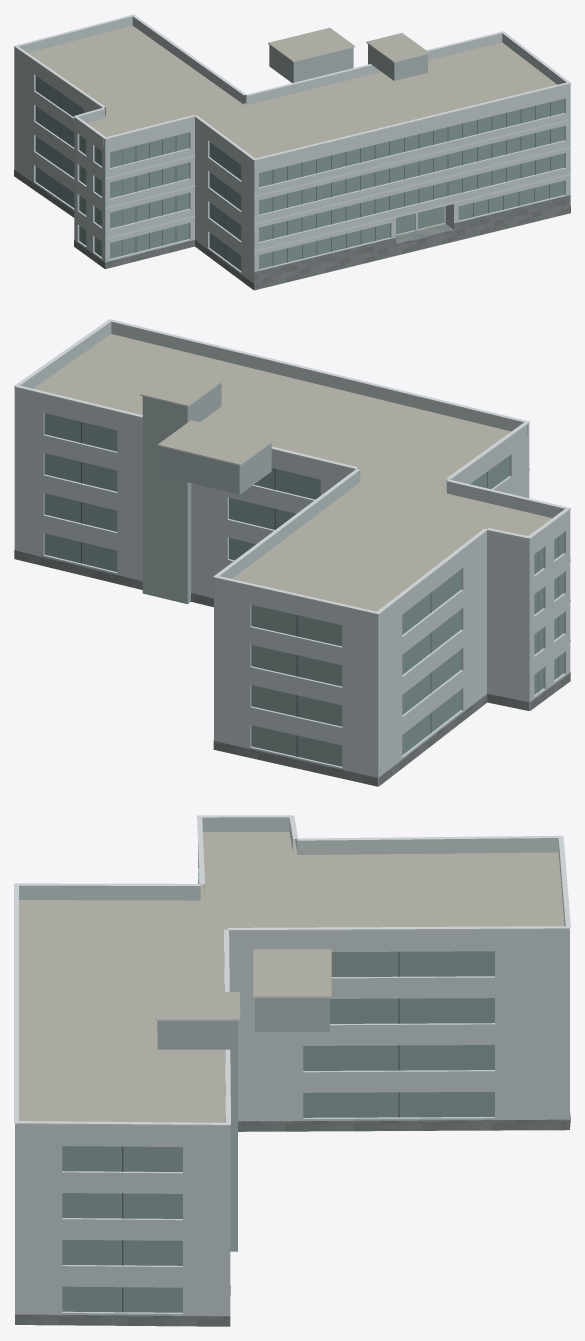
The picture shows the model from 3 angles, top to bottom: view 1: azimuth 30°, elevation 25°; view 2: azimuth 150°, elevation 25°; view 3: azimuth 270°, elevation 25°; orthographic projection. The views are drawn at different scales.
Visible parts, largest first — view 1: b66__wall, b66__roof, b66__glass, b66__parapet, b66__base, b66__trim, b66__wall2, b66__frame; view 2: b66__wall, b66__roof, b66__glass, b66__parapet, b66__wall2, b66__trim, b66__base, b66__frame; view 3: b66__roof, b66__wall, b66__glass, b66__parapet, b66__trim, b66__wall2, b66__base.
Part boxes in pixels (x1,y1,x2,y2): b66__wall: (14,55,570,289); b66__roof: (28,25,569,290); b66__glass: (35,76,564,270); b66__parapet: (14,16,570,169); b66__base: (14,170,570,290); b66__trim: (14,14,570,252); b66__wall2: (269,44,427,82); b66__frame: (60,93,550,265); b66__wall: (14,398,570,786); b66__roof: (33,334,551,611); b66__glass: (44,413,563,766); b66__parapet: (14,321,570,625); b66__wall2: (142,382,271,604); b66__trim: (14,319,570,641); b66__base: (14,550,570,786); b66__frame: (81,422,558,756); b66__roof: (19,832,566,1326); b66__wall: (15,844,569,1316); b66__glass: (62,951,494,1312); b66__parapet: (15,817,569,1138); b66__trim: (14,815,570,1126); b66__wall2: (157,998,329,1251); b66__base: (15,1113,570,1326).
Bounding box in the file's own units: 51.04 × 17.93 × 38.78.
Materials: 9 (1 with a texture image).
